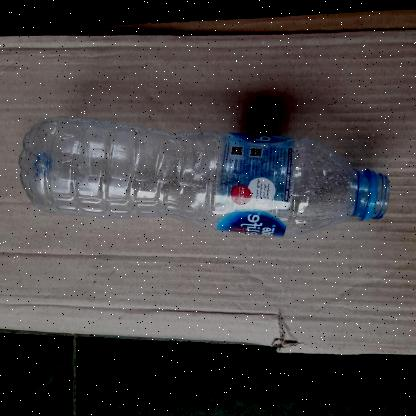Plastic Bottle: (19, 114, 391, 238)
